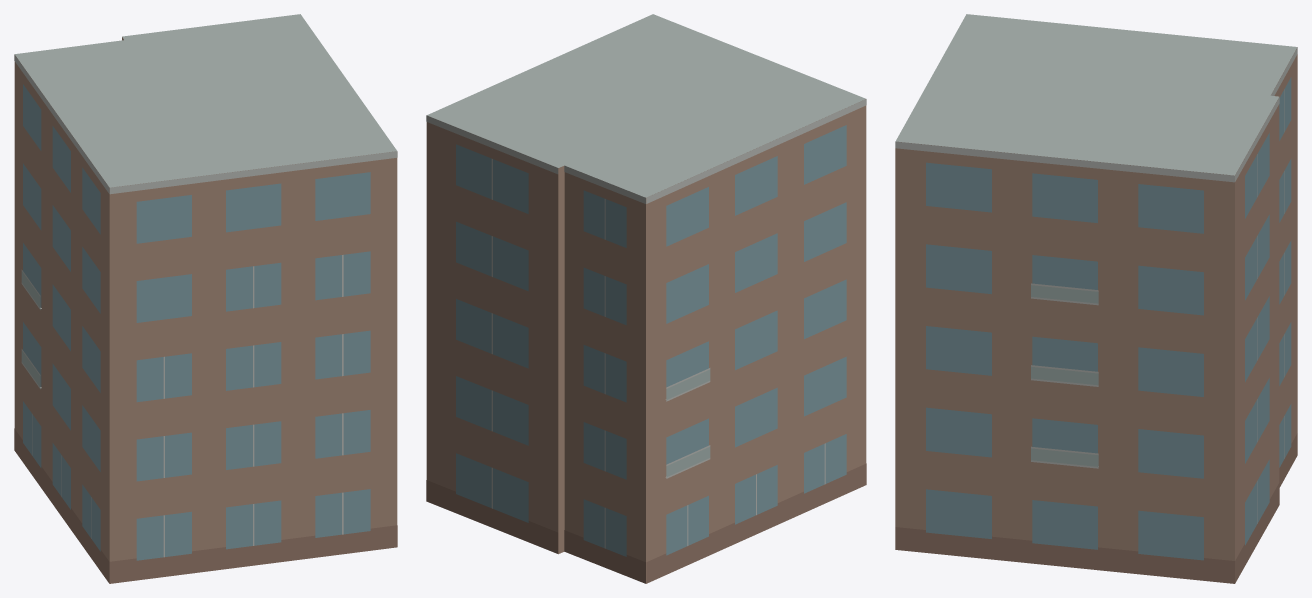
Rendered from survey-upis-32773358.glb.
3 views of the same model, side by side, from view 1: azimuth 30°, elevation 25°; view 2: azimuth 150°, elevation 25°; view 3: azimuth 270°, elevation 25° (orthographic). The views are drawn at different scales.
Visible parts, largest first — view 1: survey-upis-32773358.tmp; view 2: survey-upis-32773358.tmp; view 3: survey-upis-32773358.tmp.
Boxes of the visible parts, left/top/right/bottom form: survey-upis-32773358.tmp: left=14, top=14, right=397, bottom=583; survey-upis-32773358.tmp: left=426, top=14, right=866, bottom=583; survey-upis-32773358.tmp: left=895, top=14, right=1297, bottom=583.
Bounding box in the file's own units: 12.4 × 14.6 × 13.04.
